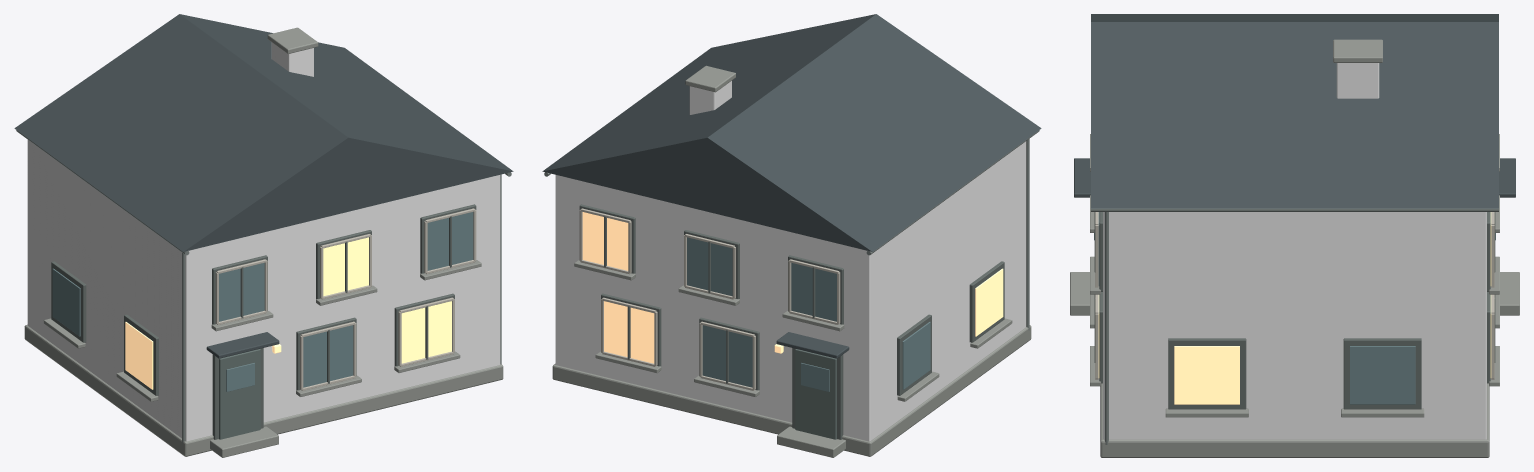
Rendered from street-house.glb.
3 renders of one model, left to right at view 1: azimuth 30°, elevation 25°; view 2: azimuth 150°, elevation 25°; view 3: azimuth 270°, elevation 25°, orthographic. The views are drawn at different scales.
Parts seen in each view (by area): view 1: building_roof_slate, building_facade_brick, building_foundation, building_window_glass, building_window_warm, building_frames, building_plaster, building_door_wood, building_gutter_metal; view 2: building_roof_slate, building_facade_brick, building_foundation, building_window_glass, building_window_warm, building_frames, building_plaster, building_door_wood, building_gutter_metal; view 3: building_roof_slate, building_facade_brick, building_foundation, building_frames, building_window_warm, building_window_glass, building_gutter_metal, building_plaster.
Part boxes in pixels (x1,y1,x2,y2): building_roof_slate: [14, 14, 513, 358]; building_facade_brick: [27, 42, 500, 441]; building_foundation: [24, 27, 503, 457]; building_window_glass: [52, 212, 473, 391]; building_window_warm: [125, 237, 451, 389]; building_frames: [51, 204, 476, 439]; building_plaster: [215, 208, 476, 390]; building_door_wood: [219, 349, 260, 439]; building_gutter_metal: [16, 130, 511, 444]; building_roof_slate: [542, 14, 1041, 358]; building_facade_brick: [555, 81, 1026, 441]; building_foundation: [552, 65, 1031, 457]; building_window_glass: [687, 237, 930, 391]; building_window_warm: [582, 212, 1003, 363]; building_frames: [579, 204, 1004, 439]; building_plaster: [579, 208, 840, 390]; building_door_wood: [795, 349, 836, 439]; building_gutter_metal: [544, 130, 1039, 330]; building_roof_slate: [1074, 14, 1515, 208]; building_facade_brick: [1103, 63, 1486, 439]; building_foundation: [1070, 39, 1519, 457]; building_frames: [1094, 212, 1495, 409]; building_window_warm: [1098, 212, 1491, 404]; building_window_glass: [1094, 212, 1495, 404]; building_gutter_metal: [1091, 208, 1498, 444]; building_plaster: [1095, 212, 1494, 379].
Size of the model in its own units: 8.48 by 7.02 by 8.2.
